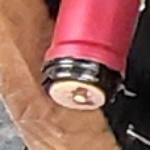bottle: (28, 35, 133, 131)
